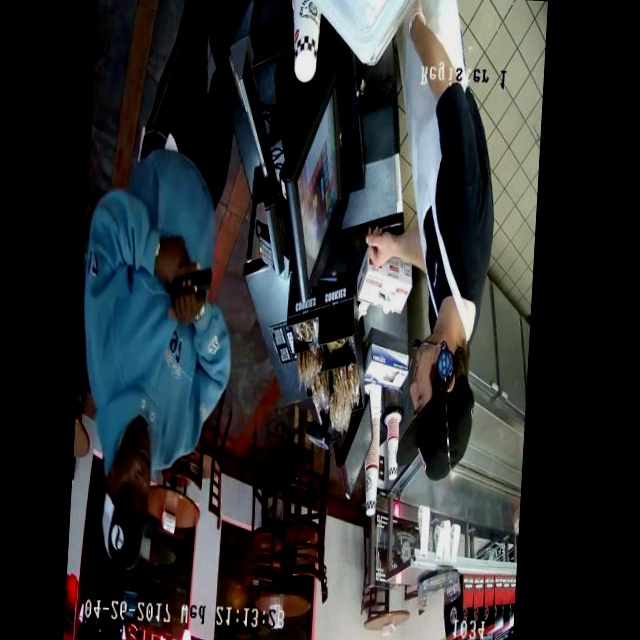gun: (150, 244, 222, 327)
